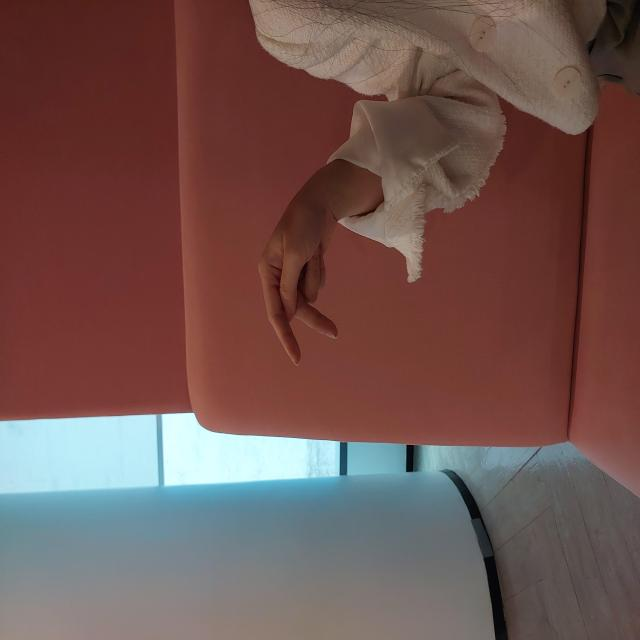P: (275, 257, 420, 338)
